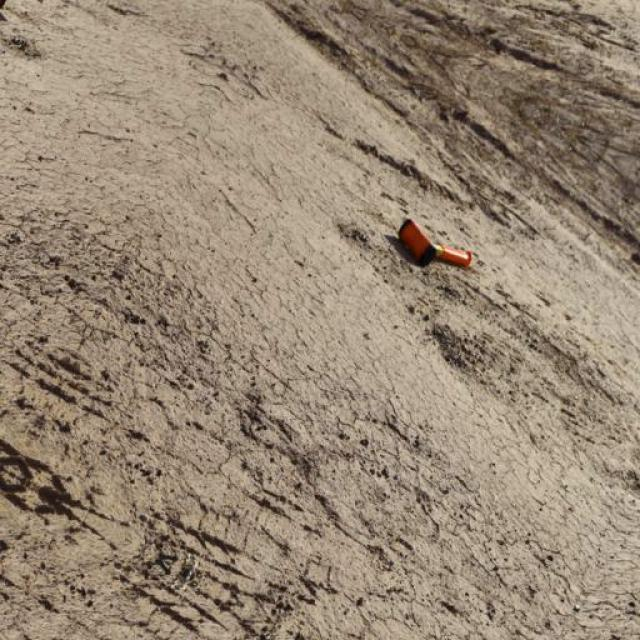mallet: (397, 216, 475, 269)
